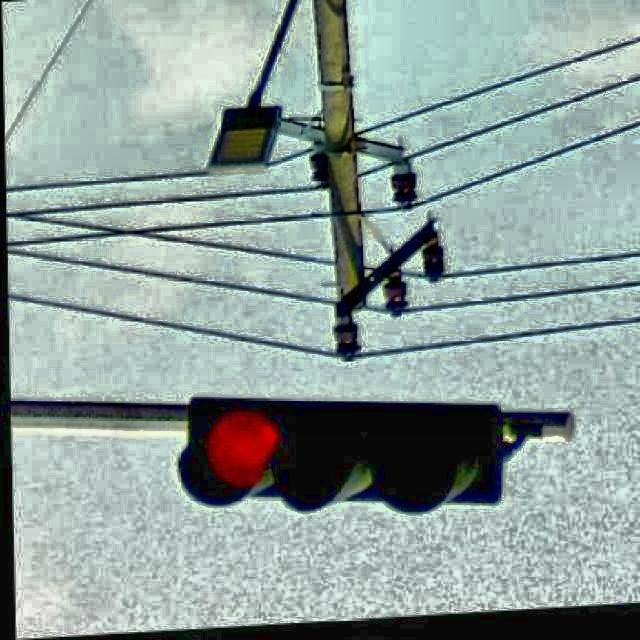red: (189, 384, 508, 519)
